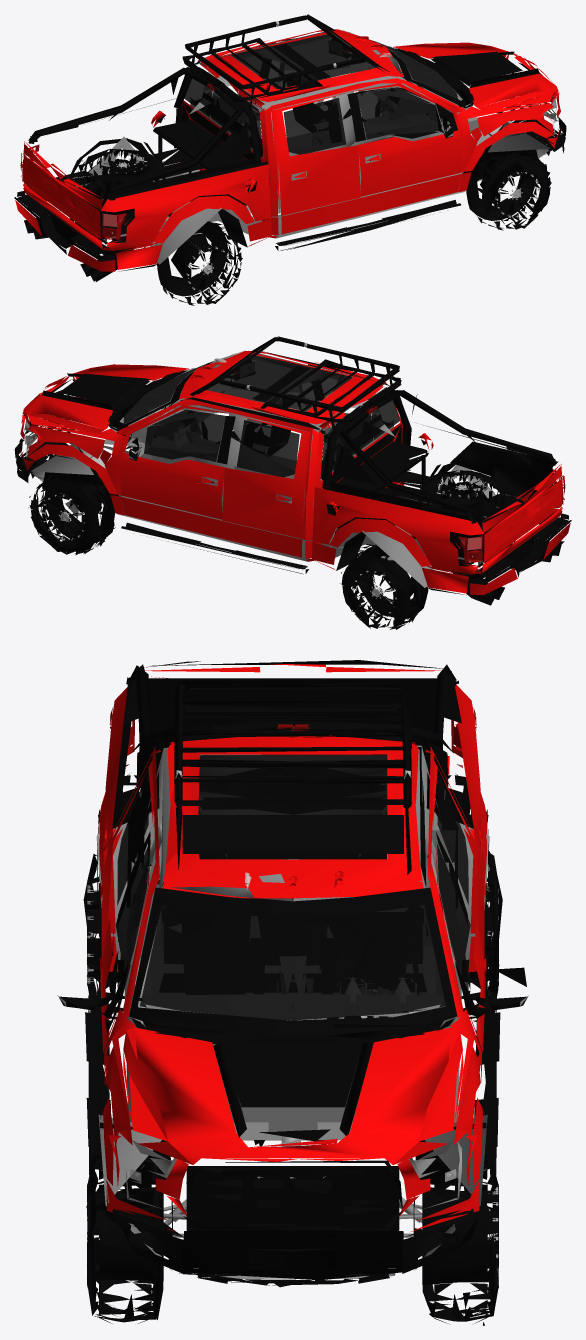
File: veh-pickup.glb
3 renders of one model, top to bottom at view 1: azimuth 30°, elevation 25°; view 2: azimuth 150°, elevation 25°; view 3: azimuth 270°, elevation 25°, orthographic. The views are drawn at different scales.
Parts seen in each view (by area): view 1: p0; view 2: p0; view 3: p0.
Part boxes in pixels (bbox=[...]): p0: bbox=[14, 14, 566, 305]; p0: bbox=[14, 336, 571, 629]; p0: bbox=[57, 660, 528, 1325].
Bounding box in the file's own units: 224 × 84.57 × 95.15.
